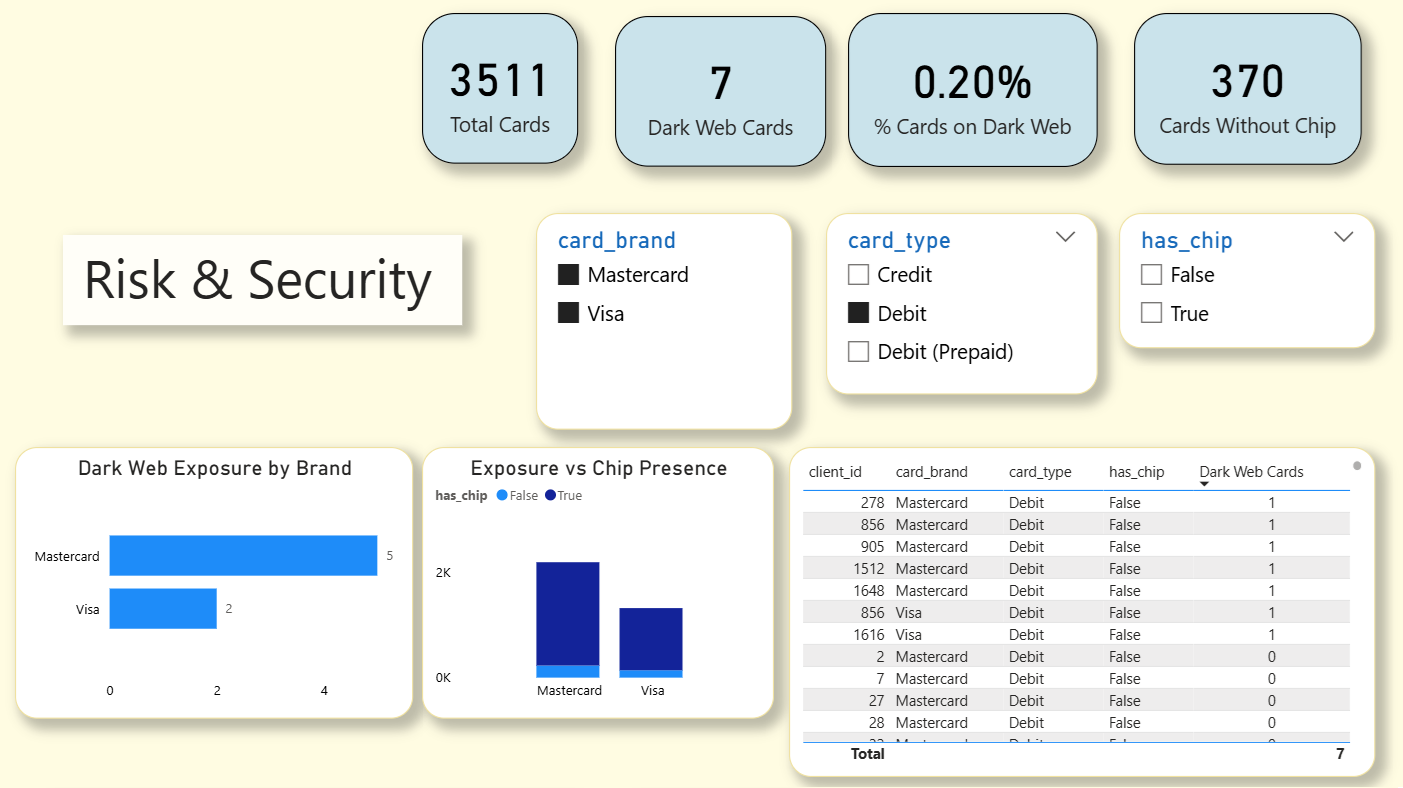

The page's visual inventory and layout, read from the dashboard file:
{"tool":"powerbi","page":{"name":"Risk & Security","canvas":[1280,720],"ordinal":1},"visuals":[{"type":"card","fields":{"Values":["clean cc_detail.% Cards on Dark Web"]},"box":[773.3,13.3,226.7,140],"z":1000},{"type":"card","fields":{"Values":["clean cc_detail.Cards Without Chip"]},"box":[1033.3,13.3,206.7,138.3],"z":2000},{"type":"slicer","fields":{"Values":["clean cc_detail.card_brand"]},"box":[490,195,233.3,196.7],"z":3000},{"type":"slicer","fields":{"Values":["clean cc_detail.card_type"]},"box":[753.3,195,246.7,165],"z":4000},{"type":"slicer","fields":{"Values":["clean cc_detail.has_chip"]},"box":[1020,195,233.3,123.3],"z":5000},{"type":"clusteredBarChart","title":"Dark Web Exposure by Brand","fields":{"Category":["clean cc_detail.card_brand"],"Y":["clean cc_detail.Dark Web Cards"]},"box":[16.7,408.3,361.7,246.7],"z":6000},{"type":"columnChart","title":"Exposure vs Chip Presence","fields":{"Category":["clean cc_detail.card_brand"],"Series":["clean cc_detail.has_chip"],"Y":["clean cc_detail.Total Cards"]},"box":[386.7,408.3,320,246.7],"z":7000},{"type":"tableEx","fields":{"Values":["clean cc_detail.client_id","clean cc_detail.card_brand","clean cc_detail.card_type","clean cc_detail.has_chip","clean cc_detail.Cards Found on Dark Web"]},"box":[720,408.3,533.3,300],"z":8000},{"type":"card","fields":{"Values":["clean cc_detail.Total Cards"]},"box":[386.7,13.3,141.7,136.7],"z":9000},{"type":"card","fields":{"Values":["clean cc_detail.Dark Web Cards"]},"box":[561.7,16.7,191.7,136.7],"z":10000},{"type":"textbox","box":[60,215,363.3,81.7],"z":10001}]}

Visuals, with their boxes in screenshot pixels (x1, y1, x2, y2), scaled from the page's 1280x720 canvas onto the 1403x788 screenshot:
card - clean cc_detail.% Cards on Dark Web: detection(848, 15, 1096, 168)
card - clean cc_detail.Cards Without Chip: detection(1133, 15, 1359, 166)
slicer - clean cc_detail.card_brand: detection(537, 213, 793, 429)
slicer - clean cc_detail.card_type: detection(826, 213, 1096, 394)
slicer - clean cc_detail.has_chip: detection(1118, 213, 1374, 348)
"Dark Web Exposure by Brand" clusteredBarChart: detection(18, 447, 415, 717)
"Exposure vs Chip Presence" columnChart: detection(424, 447, 775, 717)
tableEx - clean cc_detail.client_id x clean cc_detail.card_brand: detection(789, 447, 1374, 775)
card - clean cc_detail.Total Cards: detection(424, 15, 579, 164)
card - clean cc_detail.Dark Web Cards: detection(616, 18, 826, 168)
textbox: detection(66, 235, 464, 325)
